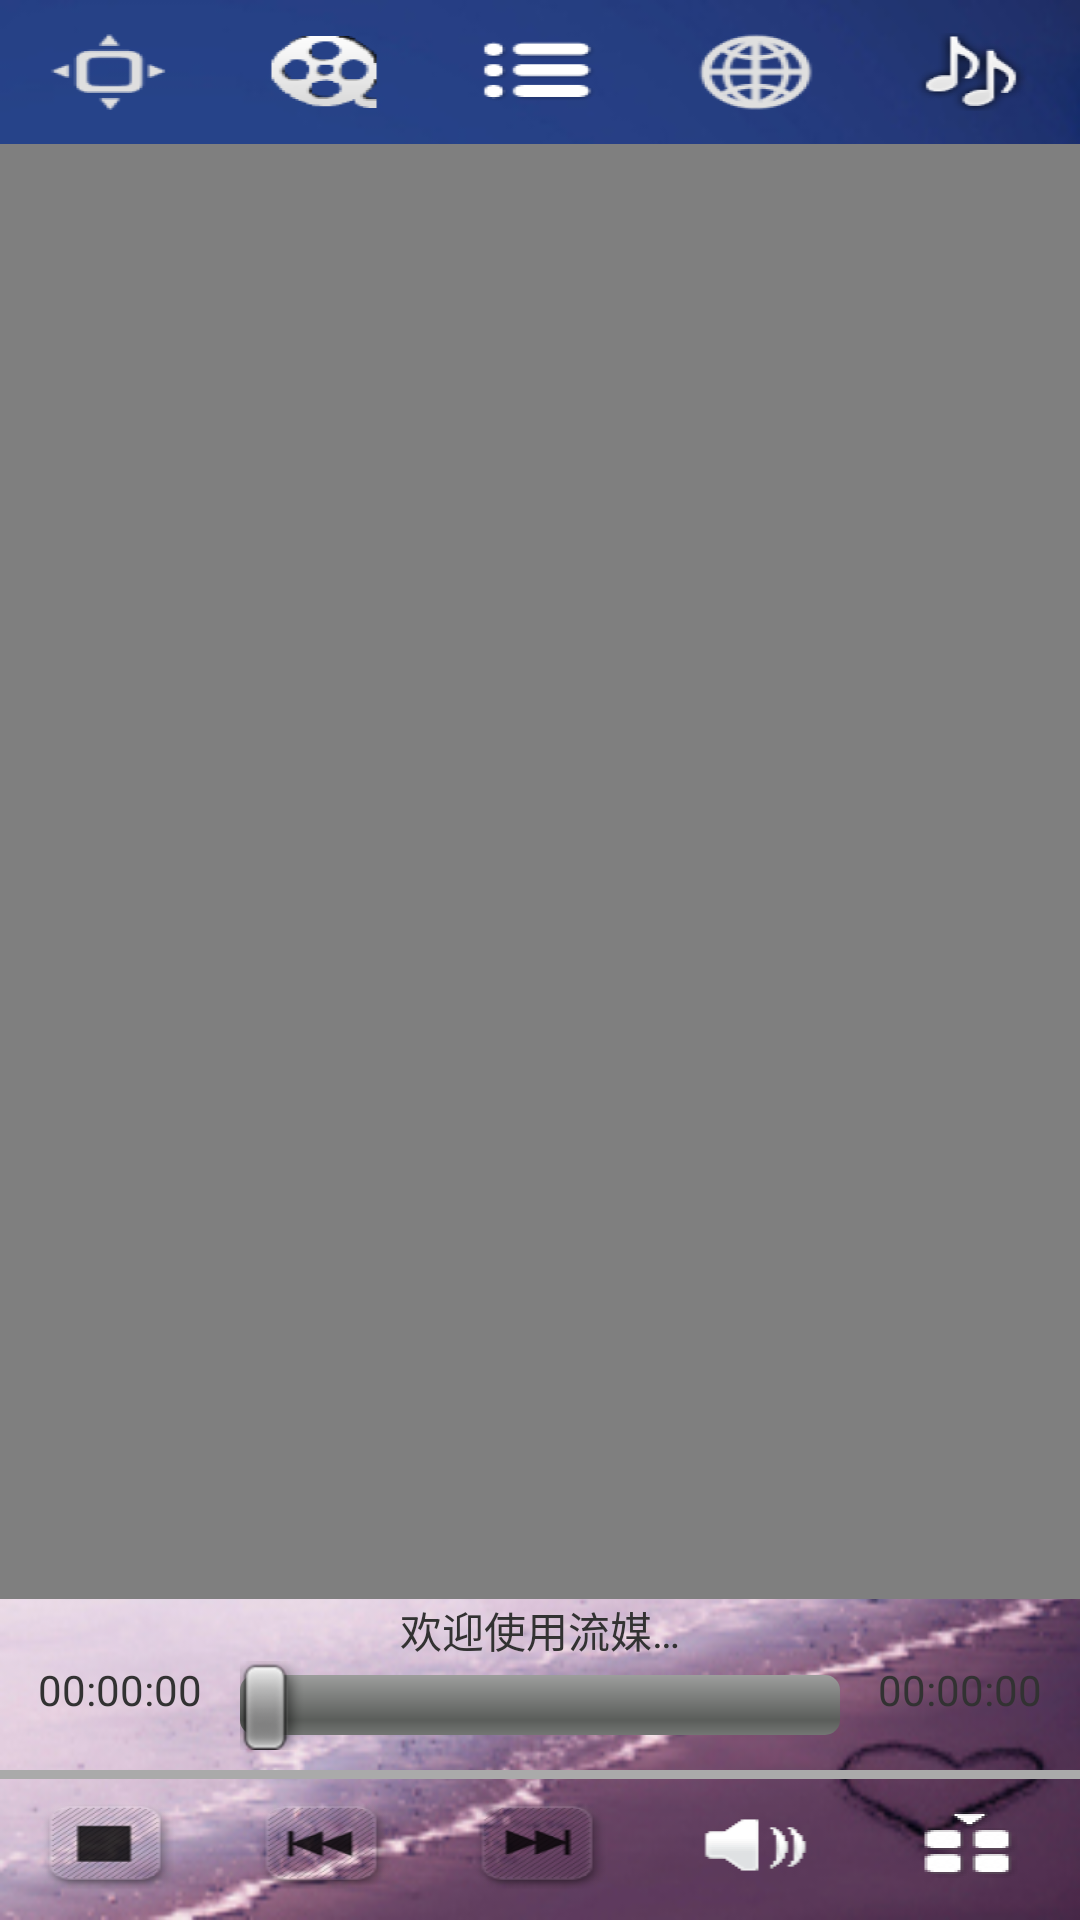

Named icons in this screenshot (1080 × 1920) and their centers, (x=x, y=y):
bnt next: (x=540, y=1845)
bnt pre: (x=324, y=1845)
bnt stop: (x=108, y=1845)
fullscreen: (x=108, y=72)
list: (x=537, y=70)
music: (x=972, y=72)
online: (x=755, y=72)
video: (x=324, y=72)
voice: (x=775, y=1834)
